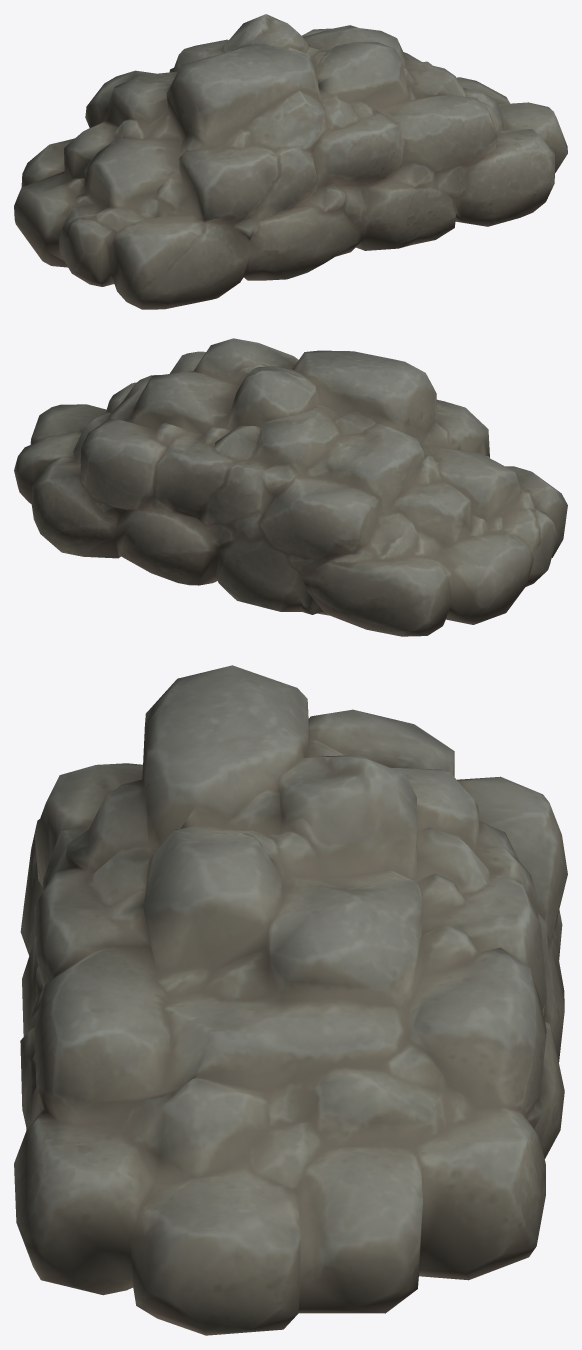
The model's file is MSH_fwOF_Debris_Rubble_01.fbx.
3 views of the same model, one above another, from view 1: azimuth 30°, elevation 25°; view 2: azimuth 150°, elevation 25°; view 3: azimuth 270°, elevation 25° (orthographic). The views are drawn at different scales.
Parts seen in each view (by area): view 1: MSH_fwOF_Debris_Rubble_01_LOD0; view 2: MSH_fwOF_Debris_Rubble_01_LOD0; view 3: MSH_fwOF_Debris_Rubble_01_LOD0.
Boxes of the visible parts, x1,y1,x2,y2 form: MSH_fwOF_Debris_Rubble_01_LOD0: (14, 14, 567, 309); MSH_fwOF_Debris_Rubble_01_LOD0: (14, 338, 567, 636); MSH_fwOF_Debris_Rubble_01_LOD0: (14, 665, 567, 1335).
Size of what is drawn, in the model's own units: 2.43 by 0.9109 by 1.22.
